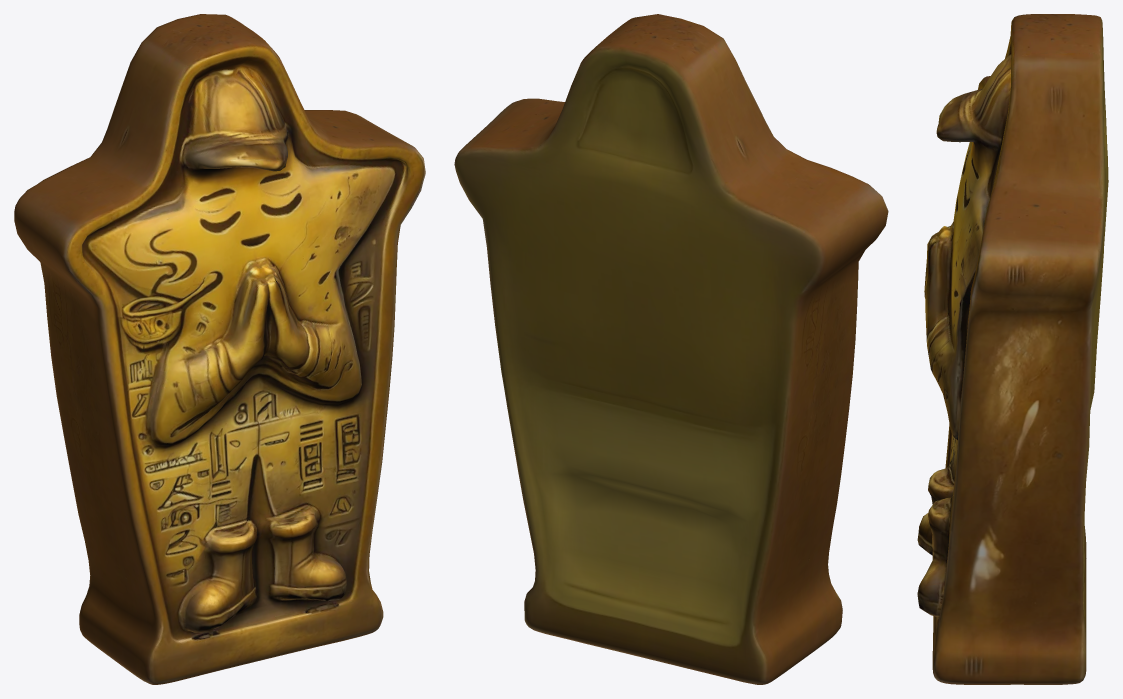
The model's file is tomb.glb.
3 renders of one model, left to right at view 1: azimuth 30°, elevation 25°; view 2: azimuth 150°, elevation 25°; view 3: azimuth 270°, elevation 25°, orthographic. The views are drawn at different scales.
Visible parts, largest first — view 1: Mesh0; view 2: Mesh0; view 3: Mesh0.
Boxes of the visible parts, x1,y1,x2,y2 form: Mesh0: (14,14,425,684); Mesh0: (454,14,888,684); Mesh0: (917,14,1108,684).
Bounding box in the file's own units: 1.23 × 1.91 × 0.5467.
1 material, 1 textured.
